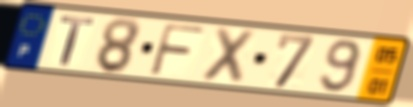7: (273, 32, 319, 90)
8: (94, 15, 143, 77)
9: (318, 38, 364, 95)
F: (147, 21, 209, 79)
T: (58, 14, 96, 68)
X: (197, 25, 260, 87)
